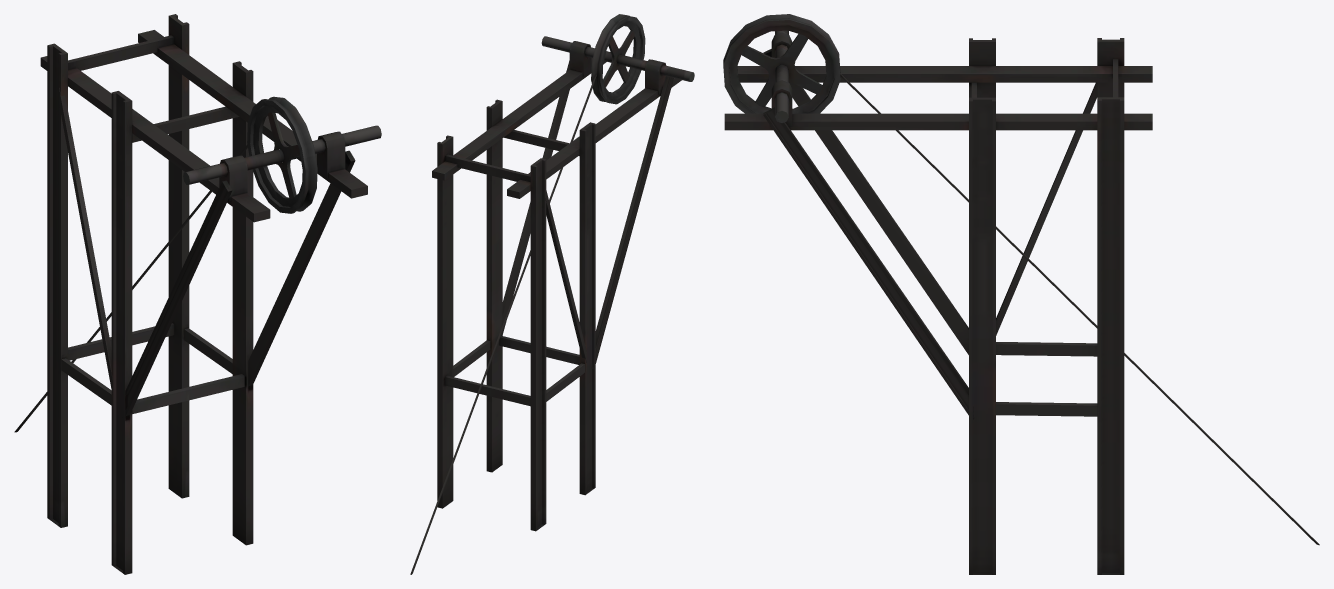
3 views of the same model, side by side, from view 1: azimuth 30°, elevation 25°; view 2: azimuth 150°, elevation 25°; view 3: azimuth 270°, elevation 25° (orthographic). The views are drawn at different scales.
Parts seen in each view (by area): view 1: body0_model0_lod0_mesh0; view 2: body0_model0_lod0_mesh0; view 3: body0_model0_lod0_mesh0.
Boxes of the visible parts, x1,y1,x2,y2 form: body0_model0_lod0_mesh0: [14, 14, 381, 574]; body0_model0_lod0_mesh0: [410, 14, 694, 574]; body0_model0_lod0_mesh0: [723, 14, 1319, 574].
Bounding box in the file's own units: 128 × 335 × 344.
Materials: 1 (1 with a texture image).
